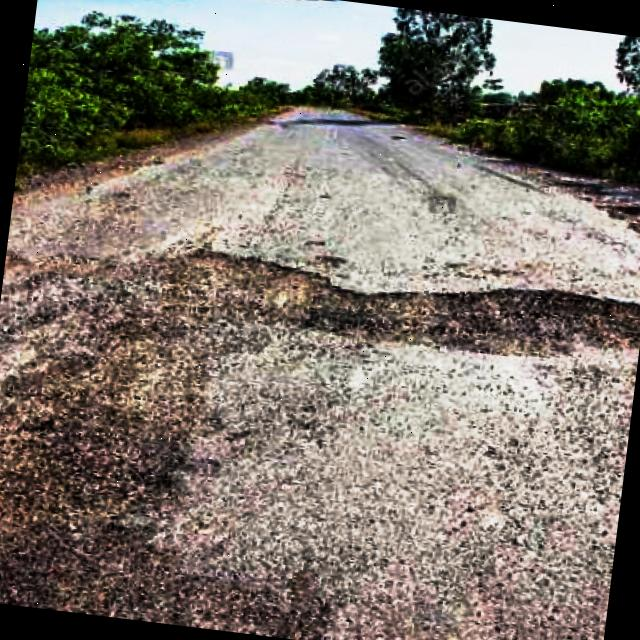pothole: (0, 309, 211, 624), (170, 242, 640, 383)
